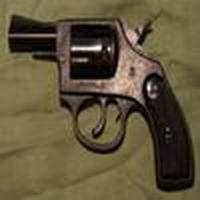gun: (9, 16, 195, 187)
